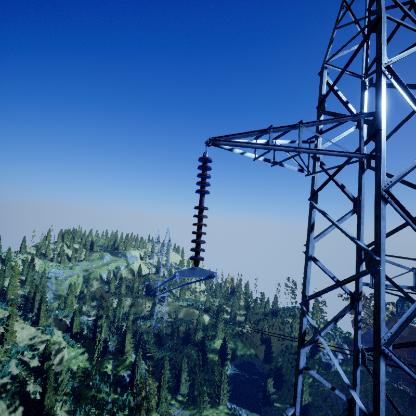insulator: (187, 155, 214, 263)
